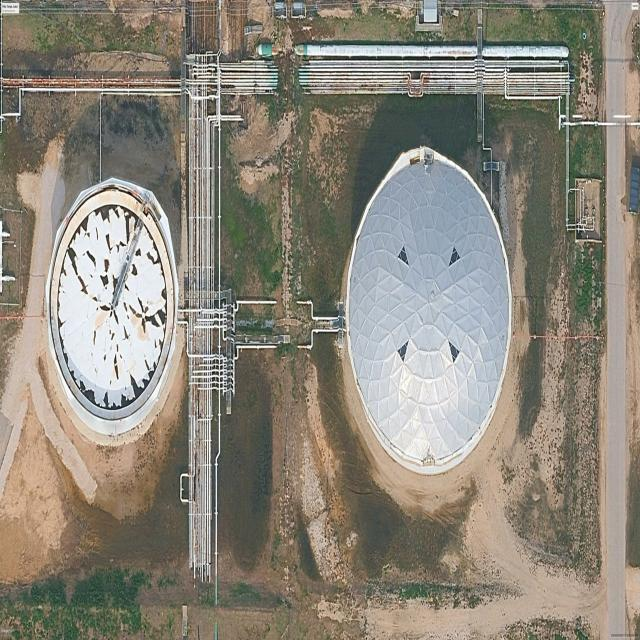Oil Rafinery: (346, 147, 512, 474), (46, 179, 178, 436)
